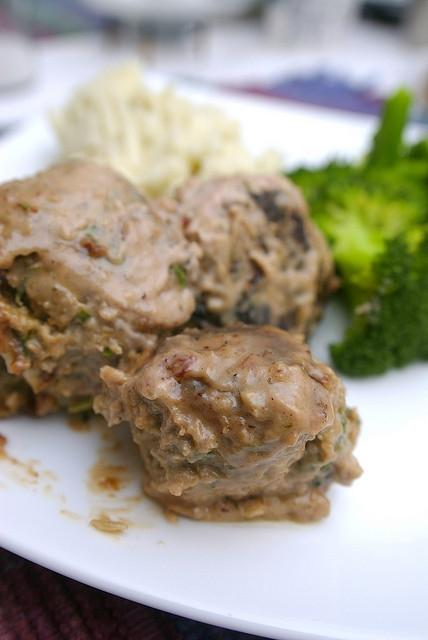broccoli: (329, 283, 428, 377), (364, 157, 428, 210)
